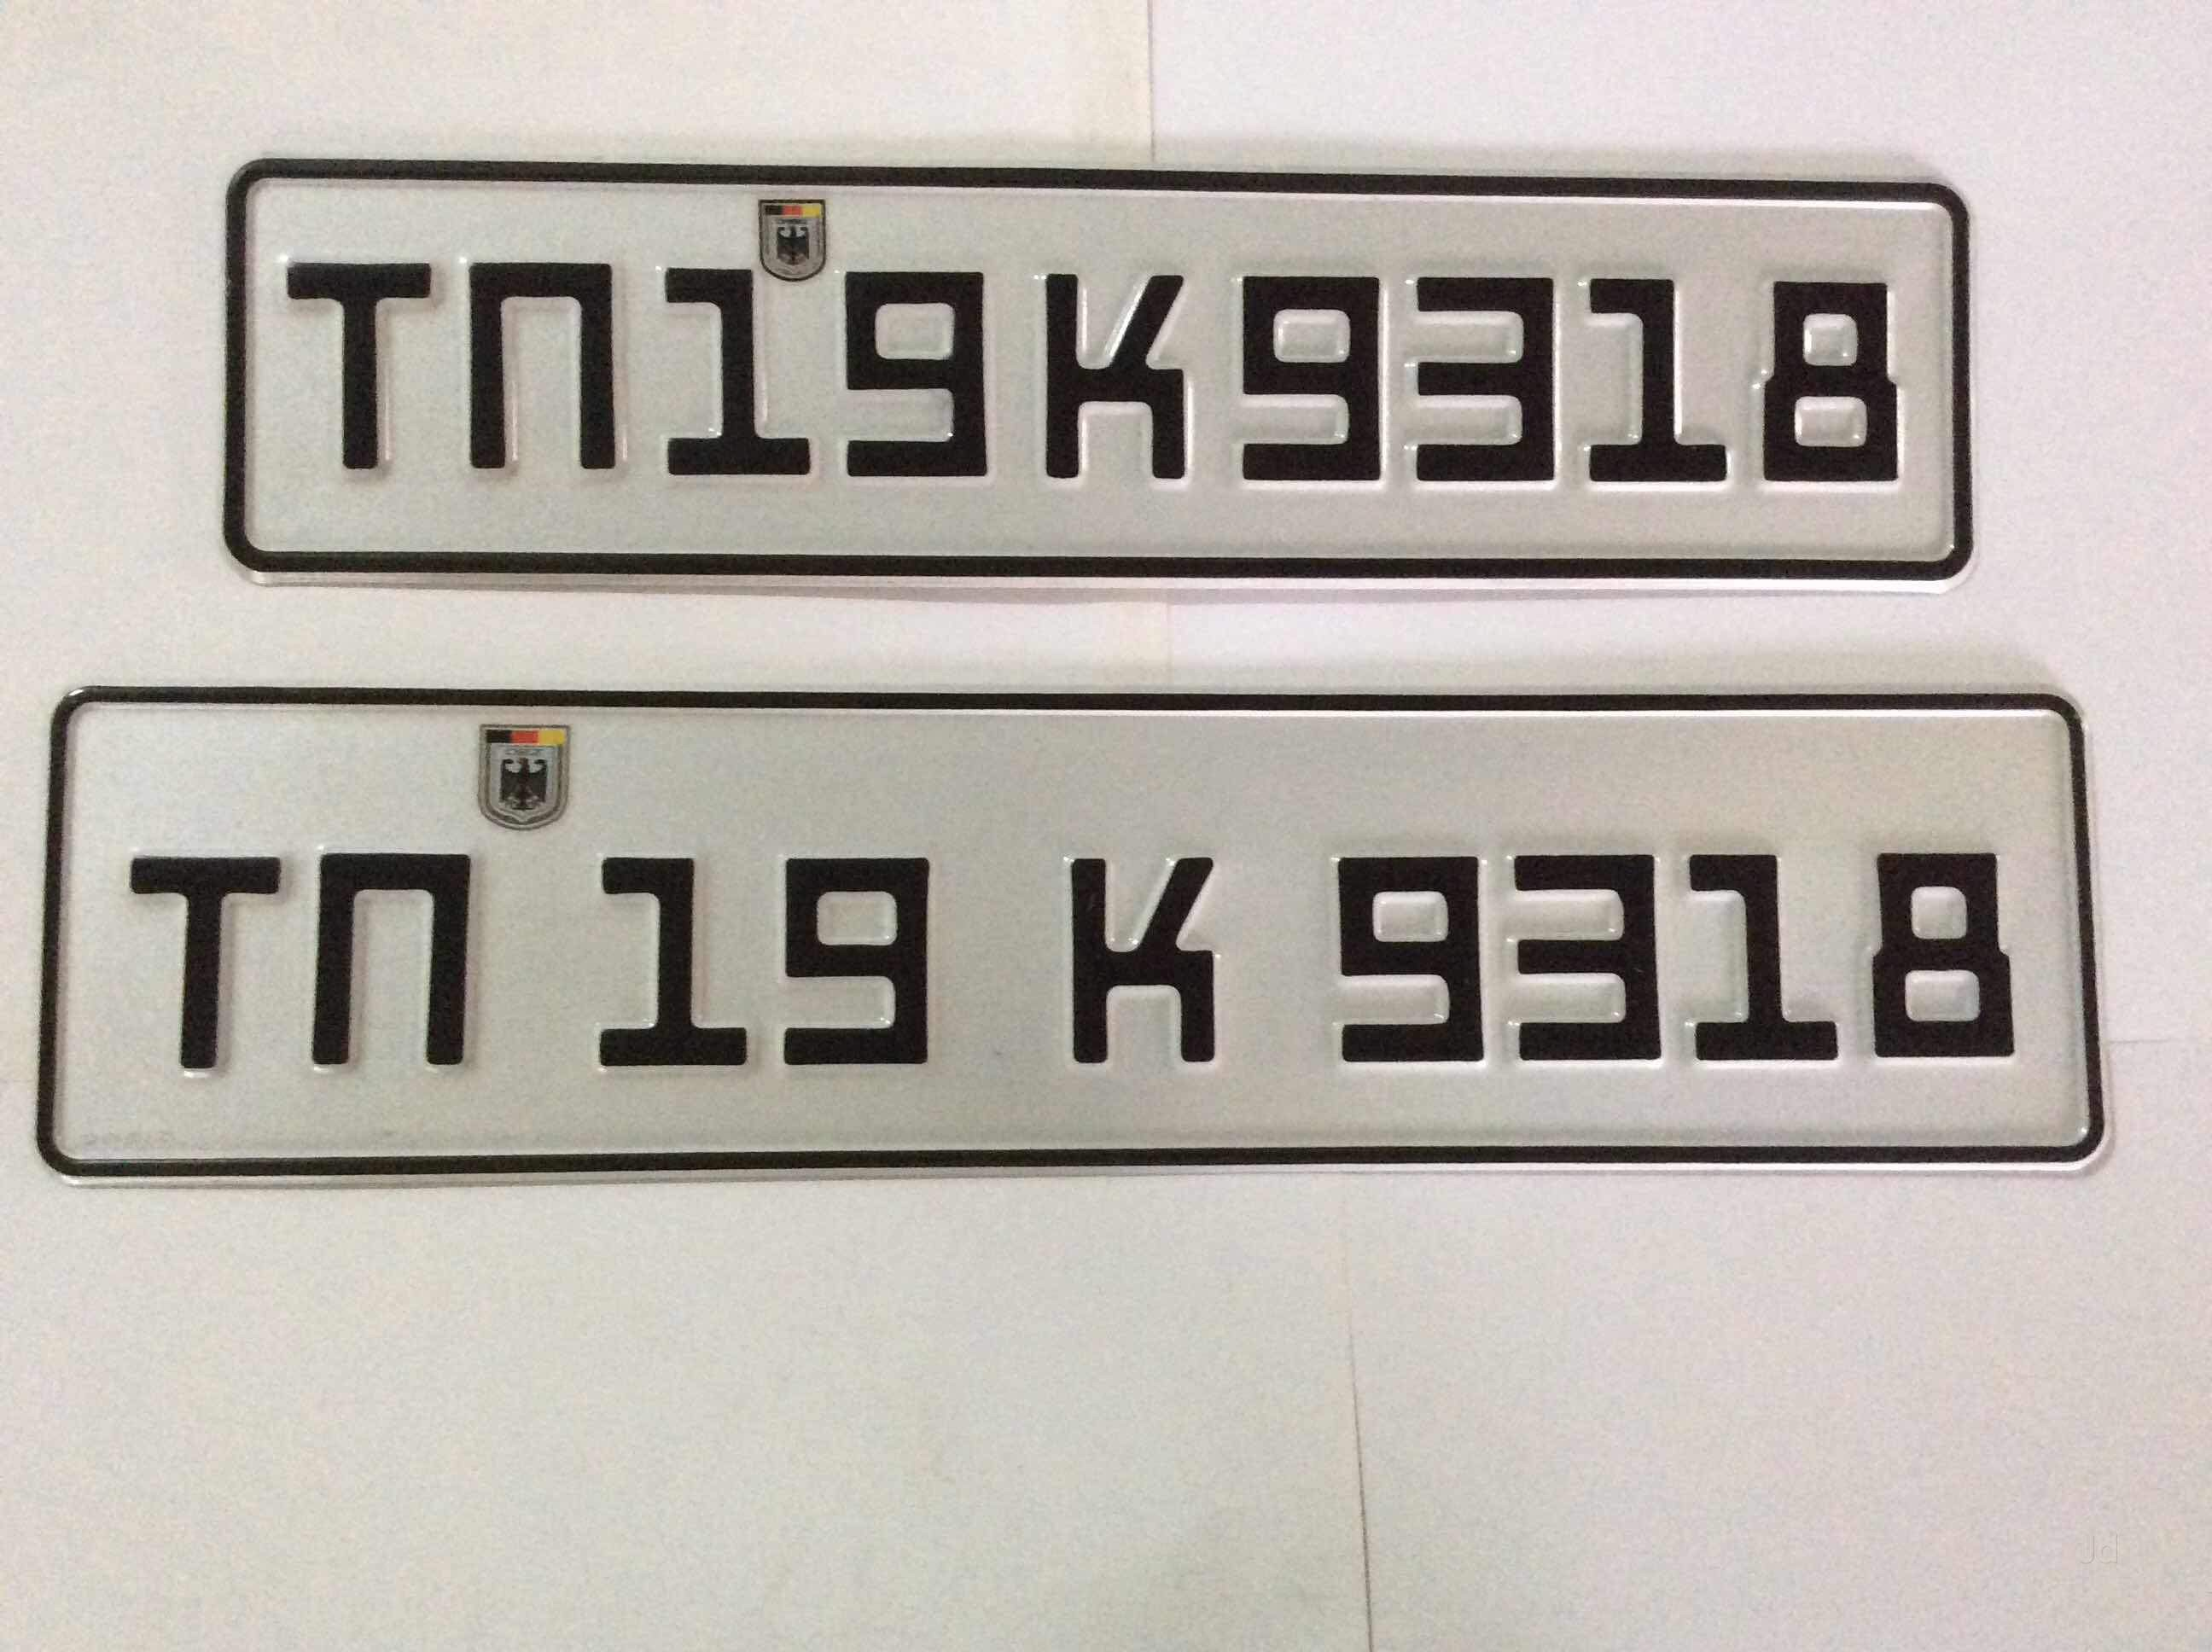numberPlate: (73, 707, 2095, 1155), (248, 172, 1955, 562)
